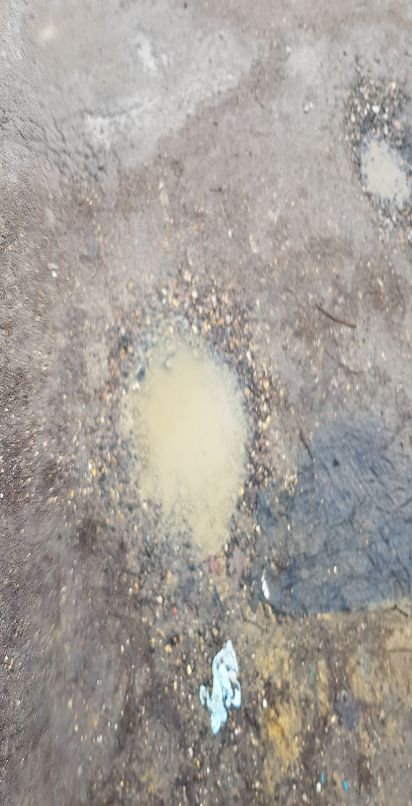pothole: (95, 279, 275, 569), (344, 72, 411, 215)
